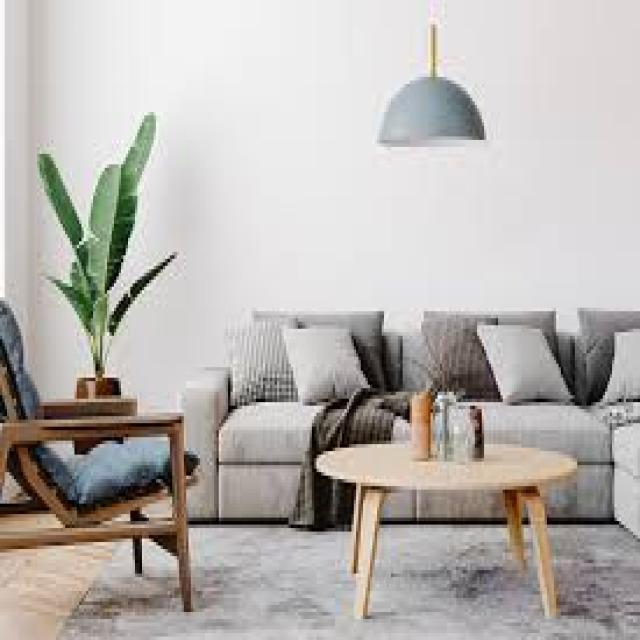Chair: (3, 280, 206, 625)
Lamp: (370, 21, 492, 158)
Sofa: (191, 280, 640, 538)
Table: (324, 433, 586, 640)
